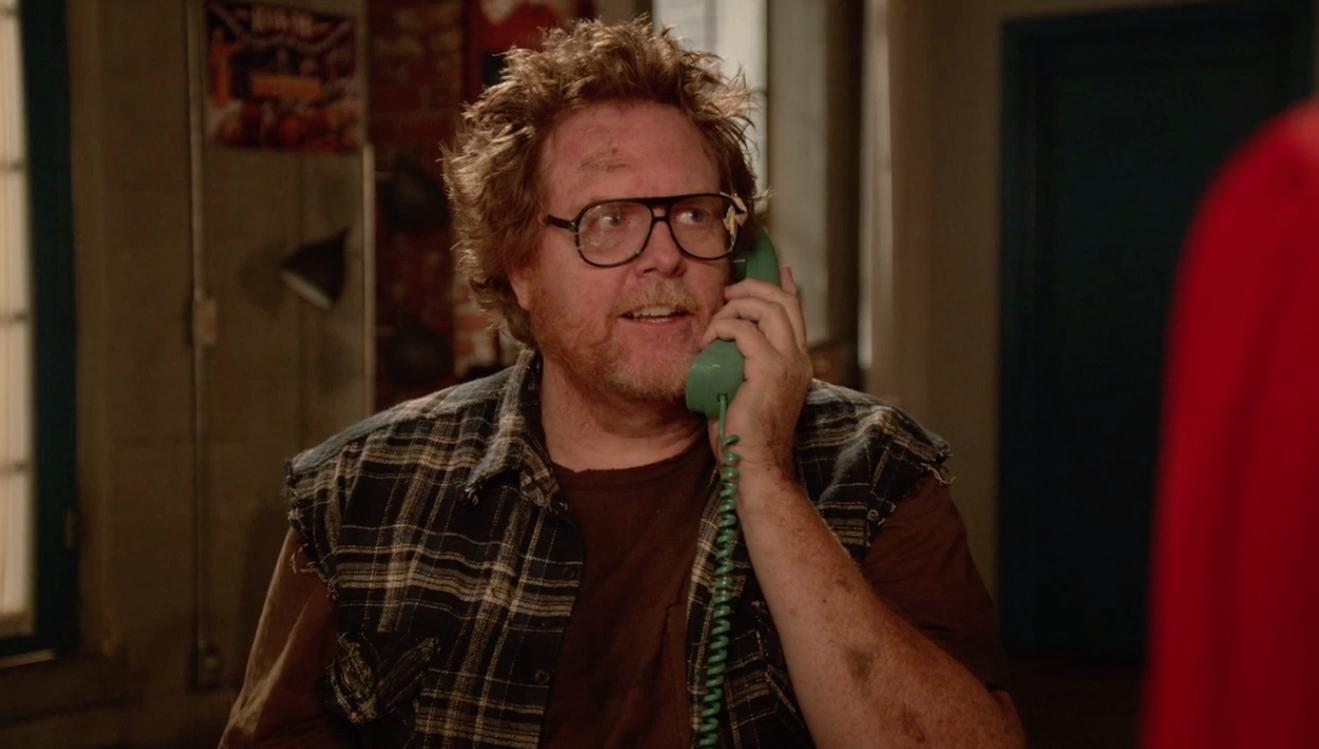person: (247, 47, 1017, 749)
